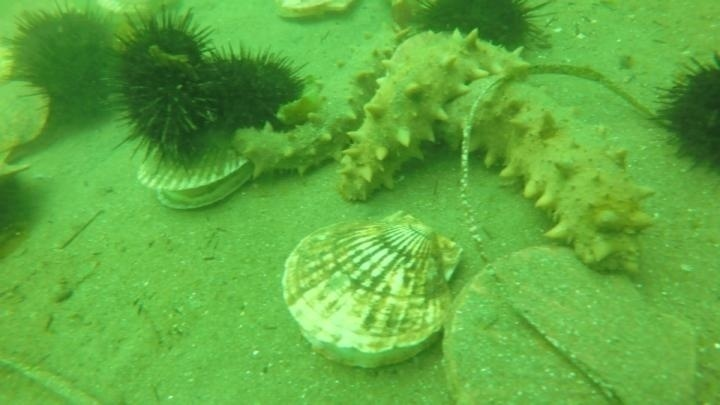echinus: (5, 3, 125, 131), (192, 40, 314, 138), (123, 54, 222, 163), (110, 4, 221, 95), (652, 51, 720, 177), (416, 1, 547, 58), (1, 163, 42, 261)
holothurian: (460, 78, 657, 277), (336, 27, 530, 206), (230, 21, 402, 182), (230, 86, 362, 183)
scallop: (438, 245, 720, 405), (276, 211, 467, 375), (340, 208, 469, 296), (134, 135, 259, 214), (1, 75, 55, 167), (273, 1, 363, 29)
